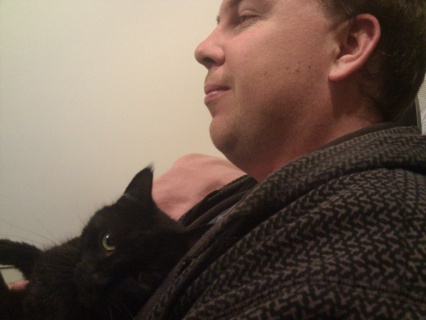Cat: (0, 162, 213, 319)
